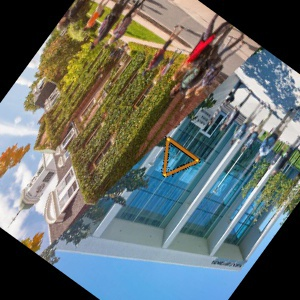triangle: (160, 134, 201, 179)
